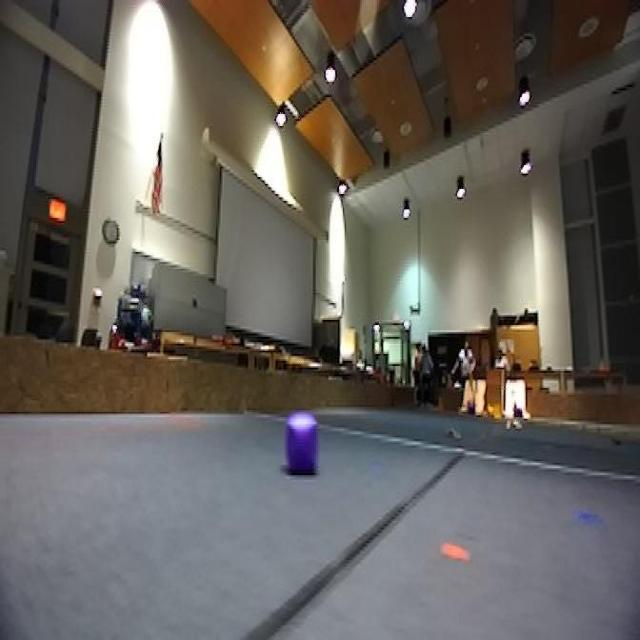frc_cube: (284, 412, 322, 477)
